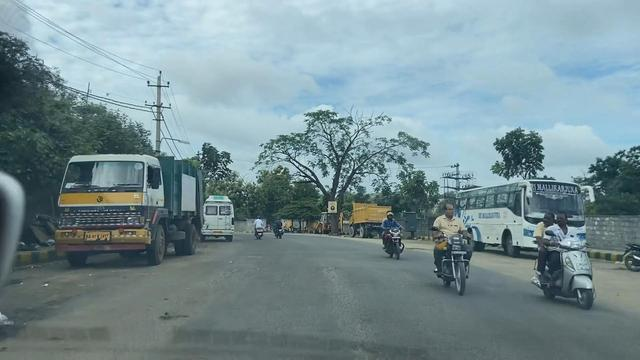HMV: (51, 147, 204, 265), (446, 181, 599, 260), (201, 192, 237, 243), (344, 200, 391, 239)
LMV: (533, 203, 605, 309), (428, 196, 481, 295), (377, 208, 405, 262), (268, 199, 290, 254), (247, 206, 271, 251)
RoadDamages: (304, 285, 388, 357)
